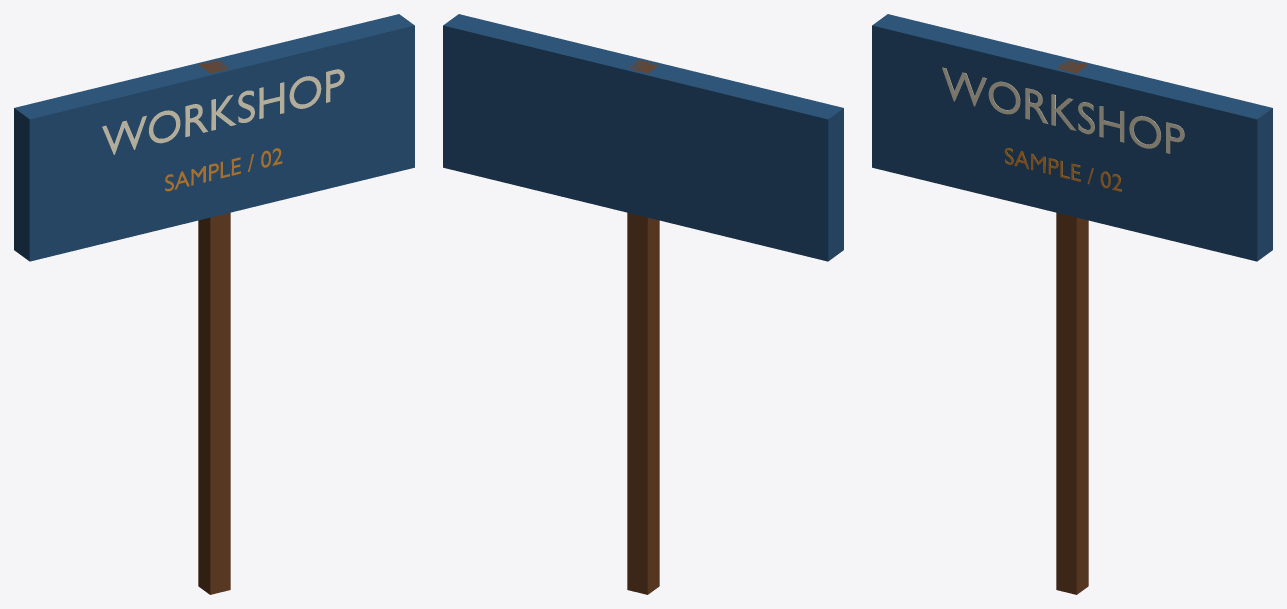
File: sign.glb
The picture shows the model from 3 angles, left to right: view 1: azimuth 30°, elevation 25°; view 2: azimuth 150°, elevation 25°; view 3: azimuth 330°, elevation 25°; orthographic projection.
Visible parts, largest first — view 1: Shared_sign, Sign_WORKSHOP, Sign_SAMPLE / 02; view 2: Shared_sign; view 3: Shared_sign, Sign_WORKSHOP, Sign_SAMPLE / 02.
Part boxes in pixels (<box>): Shared_sign: <box>14,14,414,594</box>; Sign_WORKSHOP: <box>102,69,344,154</box>; Sign_SAMPLE / 02: <box>165,148,282,191</box>; Shared_sign: <box>443,14,843,594</box>; Shared_sign: <box>872,14,1272,594</box>; Sign_WORKSHOP: <box>942,67,1184,153</box>; Sign_SAMPLE / 02: <box>1004,148,1121,191</box>.
Bounding box in the file's own units: 1.7 × 2.2 × 0.131.
